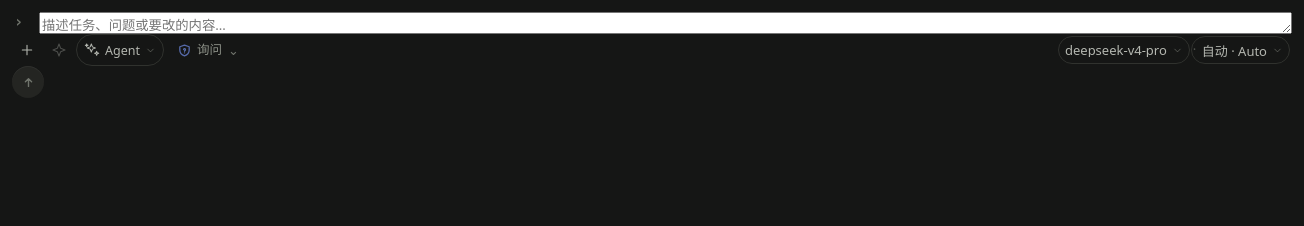
Scenario: refining a prompt before it is sent › says why a rewrite could not be made
Type "draft" into the dropdown with placeholder "描述任务、问题或要改的内容…".
click(666, 23); type("draft")  # box x1=39 y1=12 x2=1292 y2=34
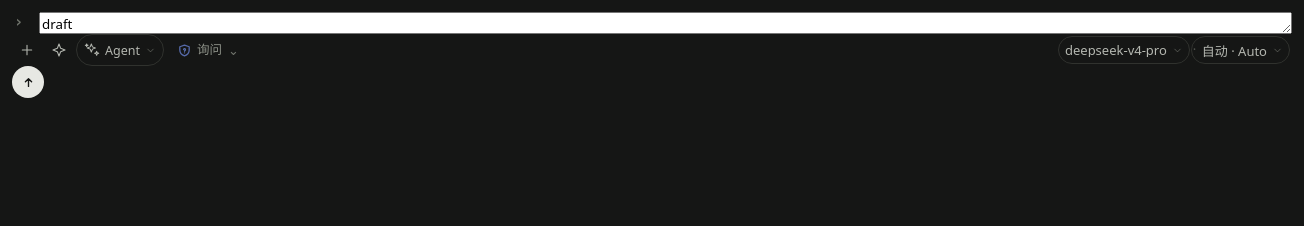
Click the button named "优化提示词".
click(58, 50)  # box x1=44 y1=36 x2=73 y2=64
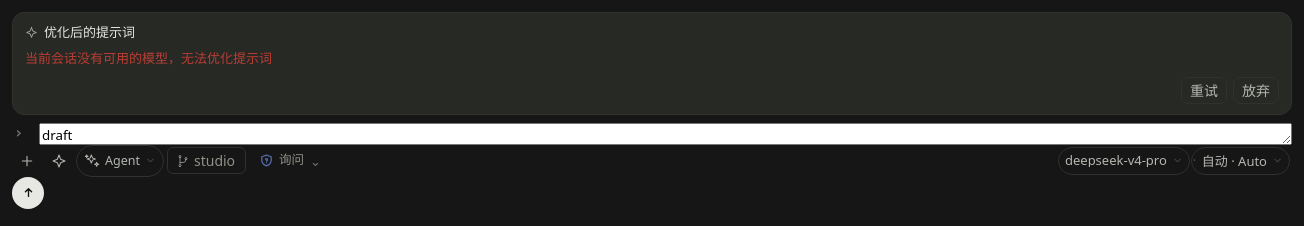
expect the message with class "refine-error" reads "当前会话没有可用的模型，无法优化提示词": met, box x1=25 y1=49 x2=272 y2=67
